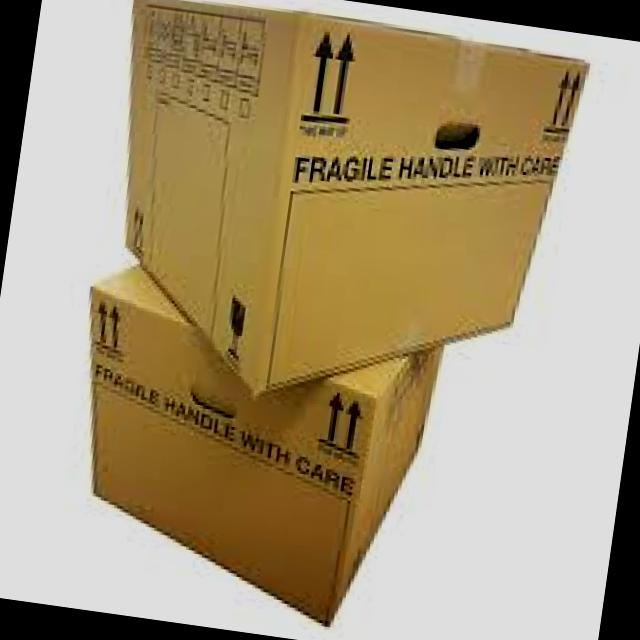fragile_label: (91, 351, 357, 505), (288, 149, 565, 197)
package_damage: (417, 113, 499, 161), (187, 380, 250, 426)
this_side_up_label: (294, 21, 376, 147), (312, 383, 380, 470), (80, 292, 148, 370), (543, 53, 592, 146)
